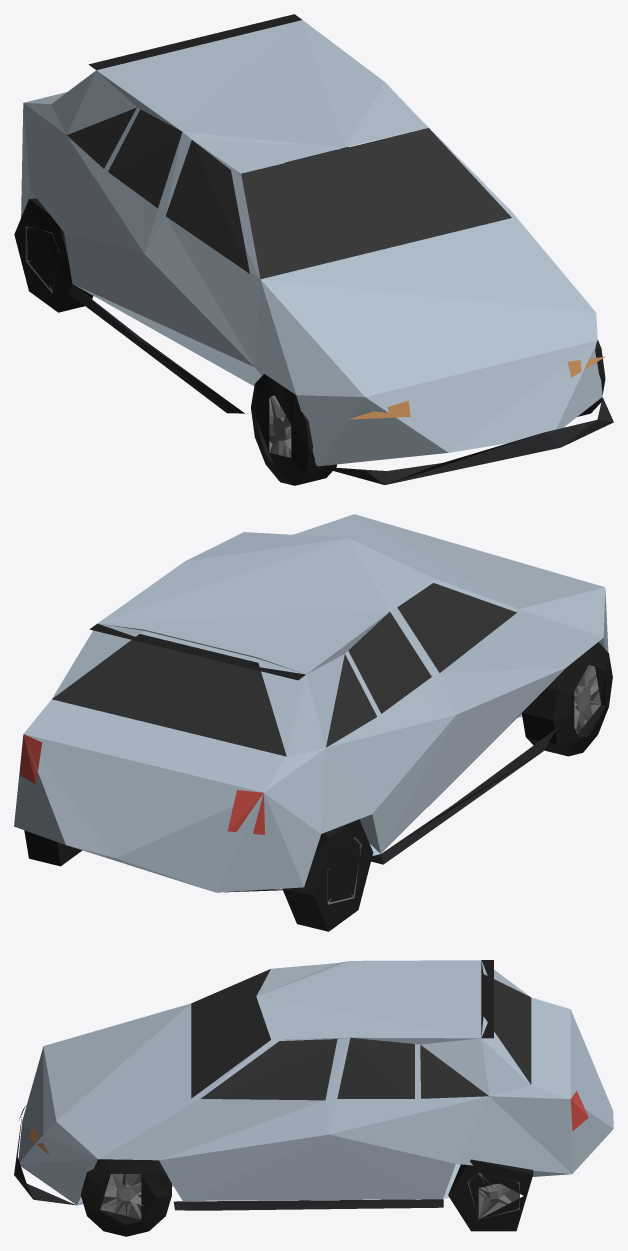
The model's file is car2.glb.
The picture shows the model from 3 angles, top to bottom: view 1: azimuth 30°, elevation 25°; view 2: azimuth 150°, elevation 25°; view 3: azimuth 270°, elevation 25°; orthographic projection. The views are drawn at different scales.
Parts seen in each view (by area): view 1: NormalCar2, NormalCar2_FrontRightWheel, NormalCar2_BackWheels; view 2: NormalCar2, NormalCar2_BackWheels, NormalCar2_FrontRightWheel; view 3: NormalCar2, NormalCar2_FrontLeftWheel, NormalCar2_BackWheels.
Boxes of the visible parts, x1,y1,x2,y2 form: NormalCar2: (21, 14, 613, 484); NormalCar2_FrontRightWheel: (251, 374, 336, 485); NormalCar2_BackWheels: (14, 147, 348, 312); NormalCar2: (14, 514, 608, 892); NormalCar2_BackWheels: (24, 819, 373, 931); NormalCar2_FrontRightWheel: (522, 642, 612, 756); NormalCar2: (14, 960, 613, 1210); NormalCar2_FrontLeftWheel: (81, 1159, 171, 1236); NormalCar2_BackWheels: (448, 1159, 533, 1231).
Size of the model in its own units: 1.51 by 1.12 by 3.26.
